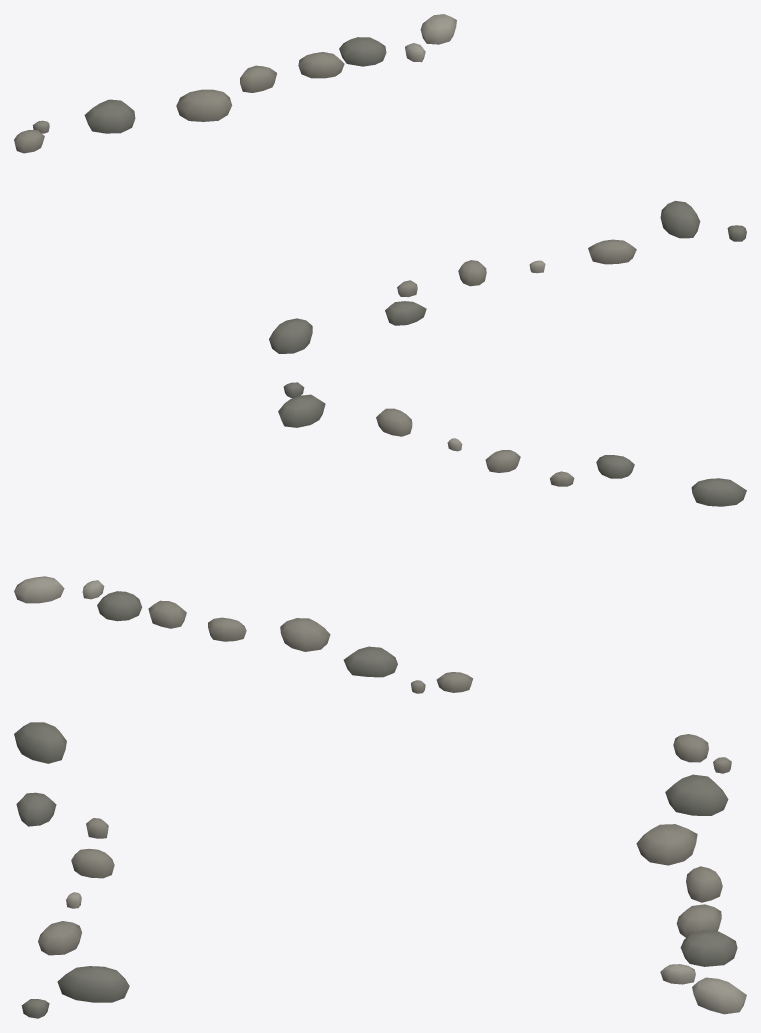
File: tile_pebbles_strip_02.glb
3 renders of one model, top to bottom at view 1: azimuth 30°, elevation 25°; view 2: azimuth 150°, elevation 25°; view 3: azimuth 270°, elevation 25°, orthographic. The views are drawn at different scales.
Visible parts, largest first — view 1: tile_pebbles_strip_02; view 2: tile_pebbles_strip_02; view 3: tile_pebbles_strip_02.
Part boxes in pixels (x1,y1,x2,y2): tile_pebbles_strip_02: (14,14,746,353); tile_pebbles_strip_02: (14,382,746,693); tile_pebbles_strip_02: (14,722,746,1018).
Size of the model in its own units: 0.9072 by 0.0383 by 1.
1 material, 1 textured.
